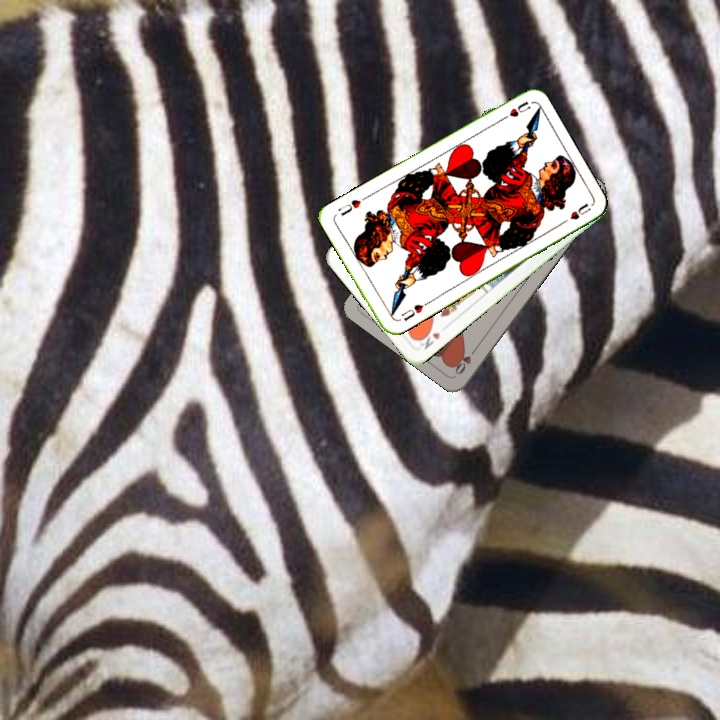HK: (414, 325, 443, 352)
HO: (451, 343, 480, 377)
HU: (496, 97, 533, 124), (397, 300, 426, 324)
